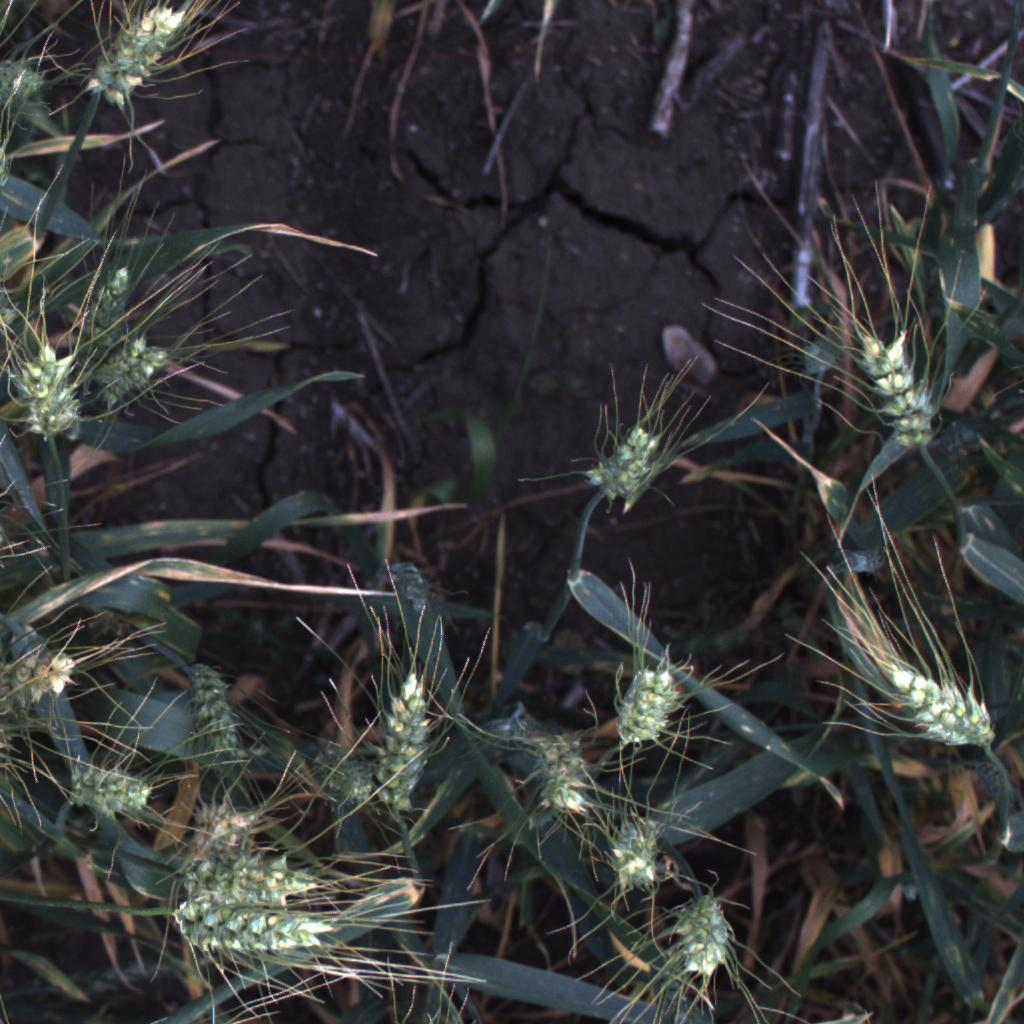0-0: (350, 649, 460, 837), (867, 641, 1009, 770), (147, 882, 360, 965), (841, 323, 946, 469), (592, 640, 706, 766), (157, 848, 349, 912), (576, 402, 676, 517), (74, 0, 190, 99), (514, 715, 606, 832), (661, 880, 748, 1002), (5, 321, 80, 460), (587, 805, 685, 909), (168, 647, 249, 766), (68, 250, 140, 380), (63, 739, 165, 822), (0, 642, 91, 719), (89, 334, 170, 419), (183, 797, 277, 860)
